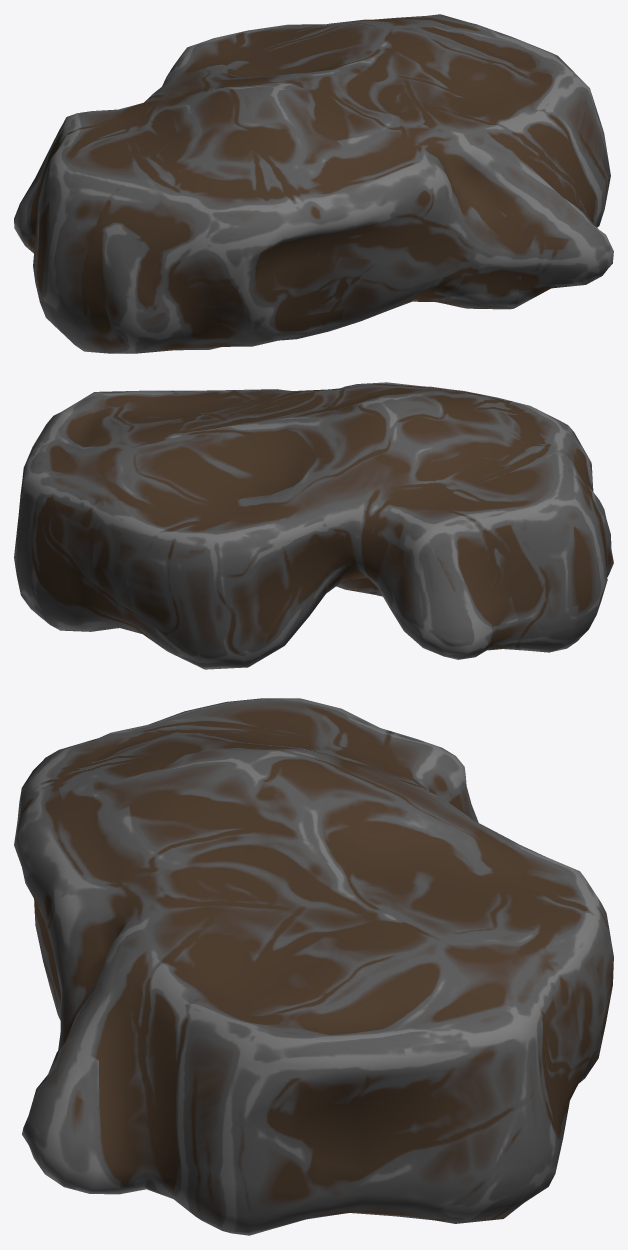
Rendered from PedraChata.fbx.
3 views of the same model, one above another, from view 1: azimuth 30°, elevation 25°; view 2: azimuth 150°, elevation 25°; view 3: azimuth 270°, elevation 25° (orthographic). The views are drawn at different scales.
Parts seen in each view (by area): view 1: Rock2Sujo; view 2: Rock2Sujo; view 3: Rock2Sujo.
Part boxes in pixels (<box>): Rock2Sujo: <box>14,14,613,353</box>; Rock2Sujo: <box>14,382,613,669</box>; Rock2Sujo: <box>14,698,613,1235</box>.
Size of the model in its own units: 2425 by 963 by 1737.
